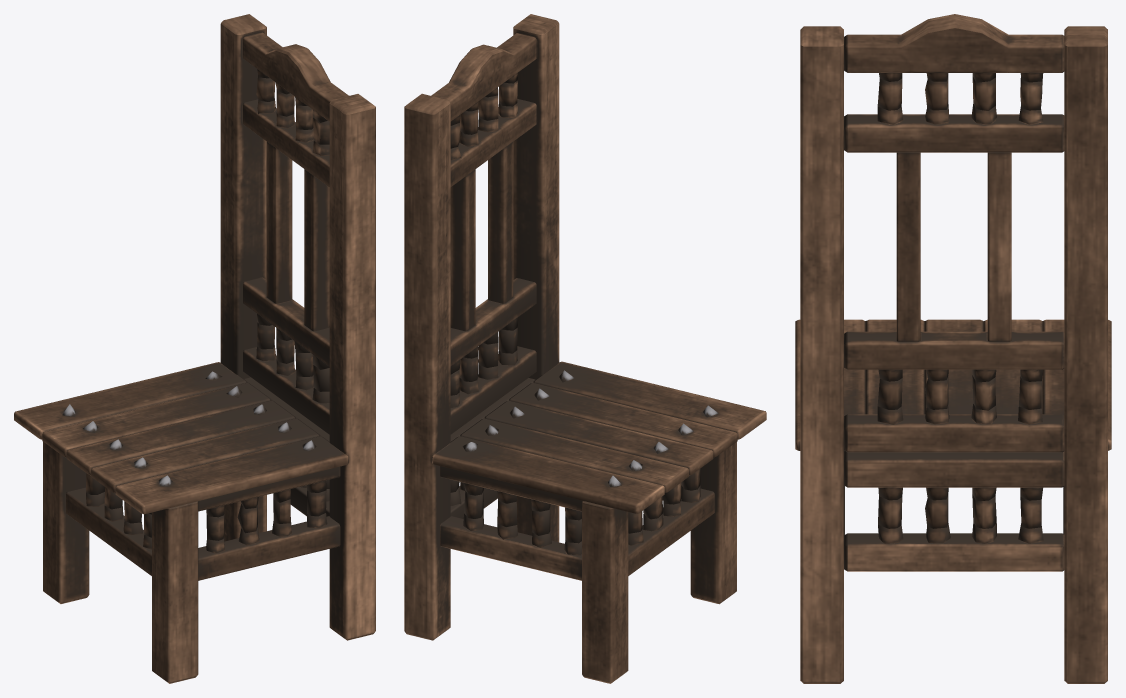
The model's file is SM_chair_01.fbx.
3 views of the same model, side by side, from view 1: azimuth 30°, elevation 25°; view 2: azimuth 150°, elevation 25°; view 3: azimuth 270°, elevation 25° (orthographic). The views are drawn at different scales.
Parts seen in each view (by area): view 1: SM_chair_01_LOD0; view 2: SM_chair_01_LOD0; view 3: SM_chair_01_LOD0.
Boxes of the visible parts, x1,y1,x2,y2 form: SM_chair_01_LOD0: [14, 14, 375, 683]; SM_chair_01_LOD0: [404, 14, 766, 683]; SM_chair_01_LOD0: [795, 14, 1111, 683].
Size of the model in its own units: 67.3 by 64.27 by 147.
